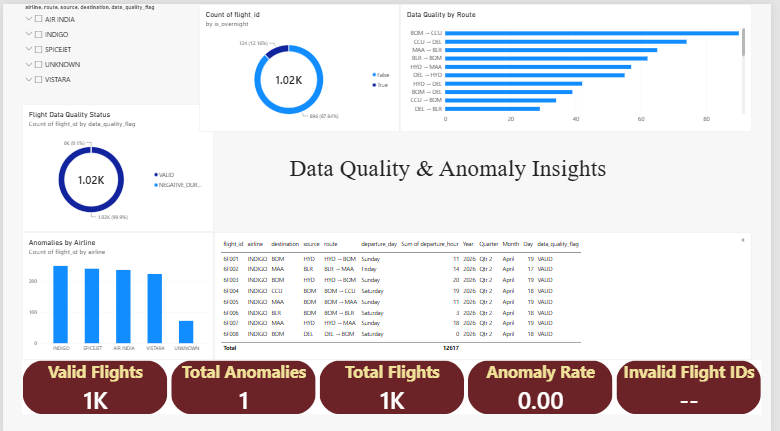

Layout of this report page (visuals, bound fields, positions):
{"tool":"powerbi","page":{"name":"Data Quality & Anomaly Insights","canvas":[1920,1080],"ordinal":3},"visuals":[{"type":"cardVisual","fields":{"Data":["dim_airline.Valid Flights","fact_flights.Total Anomalies","fact_flights.Total Flights","dim_airline.Anomaly Rate","dim_airline.Invalid Flight IDs"]},"box":[48,890,1848,136],"z":0},{"type":"donutChart","title":"Flight Data Quality Status","fields":{"Category":["fact_flights.data_quality_flag"],"Y":["CountNonNull(fact_flights.flight_id)"]},"box":[48,250,480,320],"z":1},{"type":"clusteredColumnChart","title":"Anomalies by Airline","fields":{"Category":["fact_flights.airline"],"Y":["CountNonNull(fact_flights.flight_id)"]},"box":[48,570,480,320],"z":2},{"type":"clusteredBarChart","title":"Data Quality by Route","fields":{"Category":["fact_flights.route"],"Y":["CountNonNull(fact_flights.flight_id)"]},"box":[992,0,880,320],"z":3},{"type":"tableEx","fields":{"Values":["fact_flights.flight_id","fact_flights.airline","fact_flights.destination","fact_flights.source","fact_flights.route","fact_flights.departure_day","Sum(fact_flights.departure_hour)","fact_flights.arrival_date.Variation.Date Hierarchy.Year","fact_flights.arrival_date.Variation.Date Hierarchy.Quarter","fact_flights.arrival_date.Variation.Date Hierarchy.Month","fact_flights.arrival_date.Variation.Date Hierarchy.Day","fact_flights.data_quality_flag"]},"box":[528,570,1344,320],"z":4},{"type":"donutChart","fields":{"Category":["fact_flights.is_overnight"],"Y":["CountNonNull(fact_flights.flight_id)"]},"box":[490,0,502,320],"z":5},{"type":"slicer","fields":{"Values":["fact_flights.airline","fact_flights.route","fact_flights.source","fact_flights.destination","fact_flights.data_quality_flag"]},"box":[48,0,424,222],"z":6},{"type":"textbox","box":[527.5,320,1170,250],"z":7}]}

Visuals, with their boxes in screenshot pixels (x1, y1, x2, y2), scaled from the page's 1920x1080 canvas onto the 780x431 screenshot:
cardVisual - dim_airline.Valid Flights x fact_flights.Total Anomalies: pyautogui.locateOnScreen(20, 355, 770, 409)
"Flight Data Quality Status" donutChart: pyautogui.locateOnScreen(20, 100, 214, 227)
"Anomalies by Airline" clusteredColumnChart: pyautogui.locateOnScreen(20, 227, 214, 355)
"Data Quality by Route" clusteredBarChart: pyautogui.locateOnScreen(403, 0, 760, 128)
tableEx - fact_flights.flight_id x fact_flights.airline: pyautogui.locateOnScreen(214, 227, 760, 355)
donutChart - fact_flights.is_overnight x CountNonNull(fact_flights.flight_id): pyautogui.locateOnScreen(199, 0, 403, 128)
slicer - fact_flights.airline x fact_flights.route: pyautogui.locateOnScreen(20, 0, 192, 89)
textbox: pyautogui.locateOnScreen(214, 128, 690, 227)
